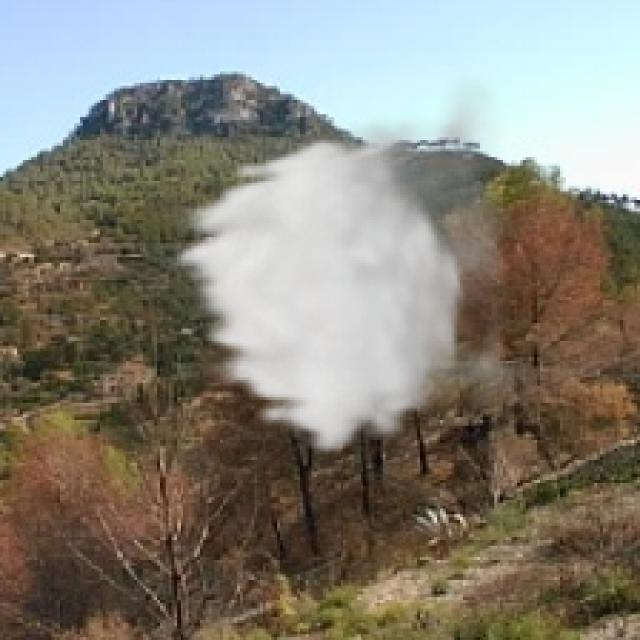smoke: (163, 69, 537, 457)
